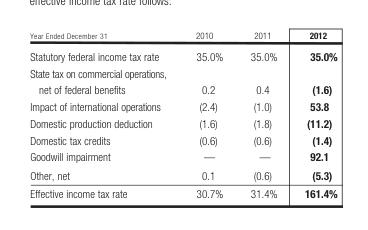table: (29, 29, 336, 199)
table column: (29, 29, 180, 199), (180, 29, 236, 199), (236, 29, 290, 199), (290, 29, 336, 199)
table column header: (29, 29, 336, 44)
table row: (29, 64, 336, 97), (29, 44, 336, 64), (29, 165, 336, 183), (29, 97, 336, 114), (29, 114, 336, 131), (29, 131, 336, 148), (29, 148, 336, 165), (29, 183, 336, 199), (29, 29, 336, 44)
